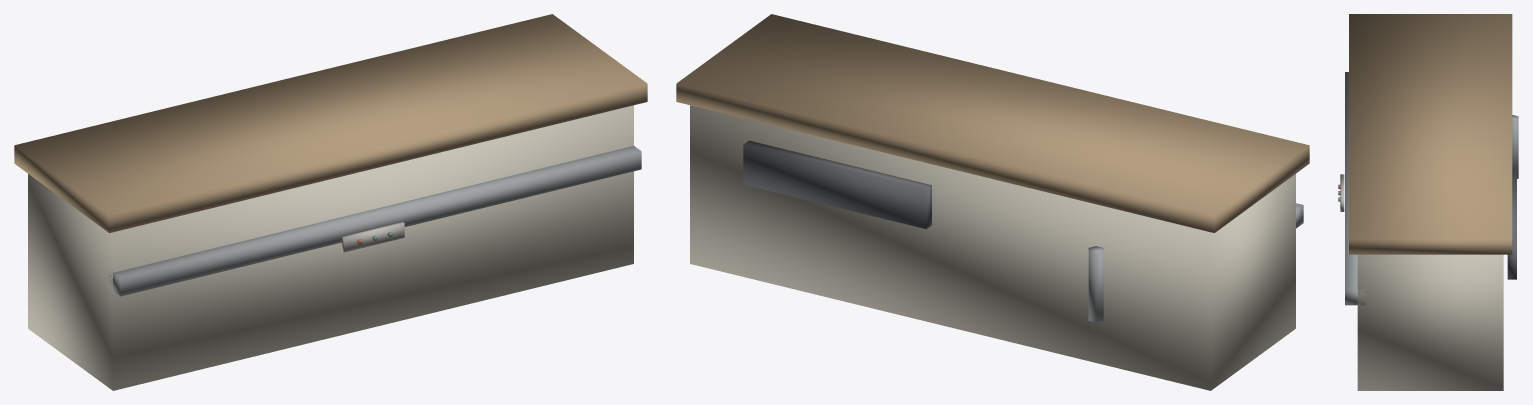
The model's file is diner_counter__service.glb.
The picture shows the model from 3 angles, left to right: view 1: azimuth 30°, elevation 25°; view 2: azimuth 150°, elevation 25°; view 3: azimuth 270°, elevation 25°; orthographic projection. The views are drawn at different scales.
Parts seen in each view (by area): view 1: world; view 2: world; view 3: world.
Part boxes in pixels (bbox=[...]): world: bbox=[14, 14, 647, 390]; world: bbox=[676, 14, 1309, 390]; world: bbox=[1338, 14, 1518, 390].
Bounding box in the file's own units: 2.48 × 0.8 × 0.8413.
